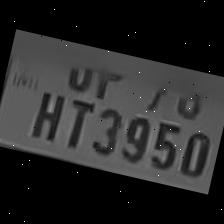0: (174, 122, 216, 181)
3: (84, 99, 126, 159)
5: (142, 114, 186, 172)
7: (137, 67, 175, 114)
9: (114, 106, 154, 164)
H: (24, 83, 70, 144)
P: (86, 58, 128, 102)
T: (56, 92, 96, 152)
U: (59, 54, 99, 94)
